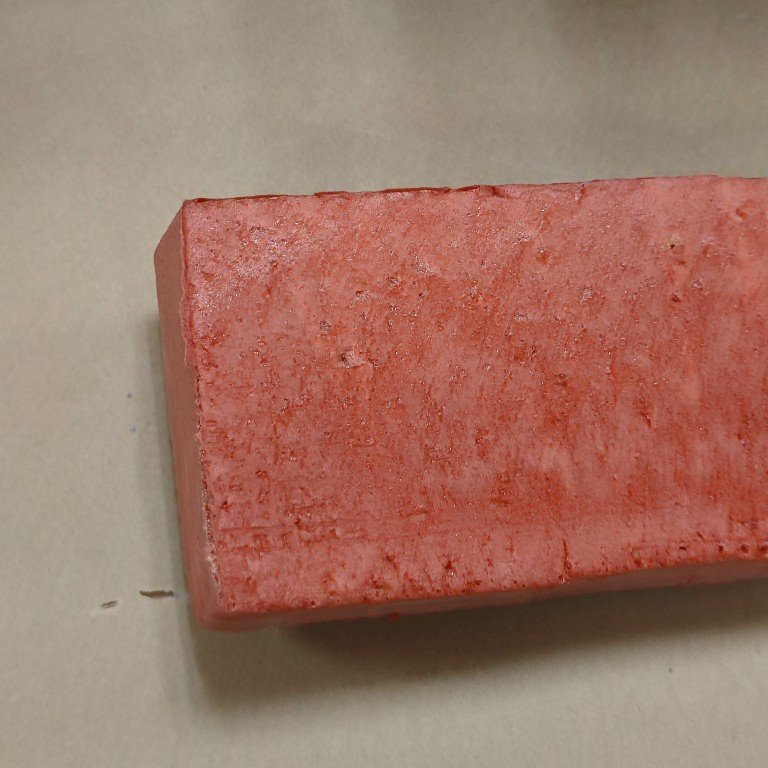brick: (144, 173, 768, 639)
